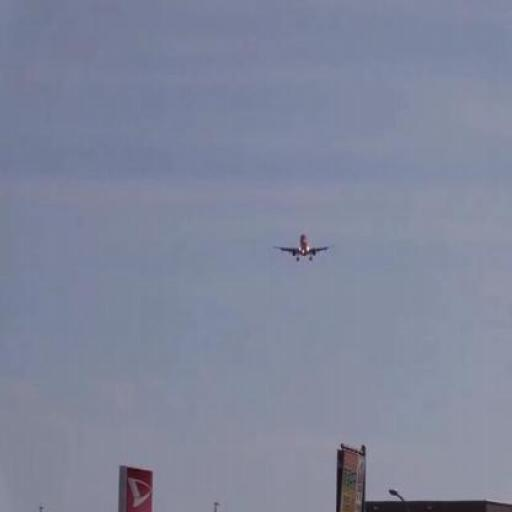aircraft: (272, 234, 334, 263)
